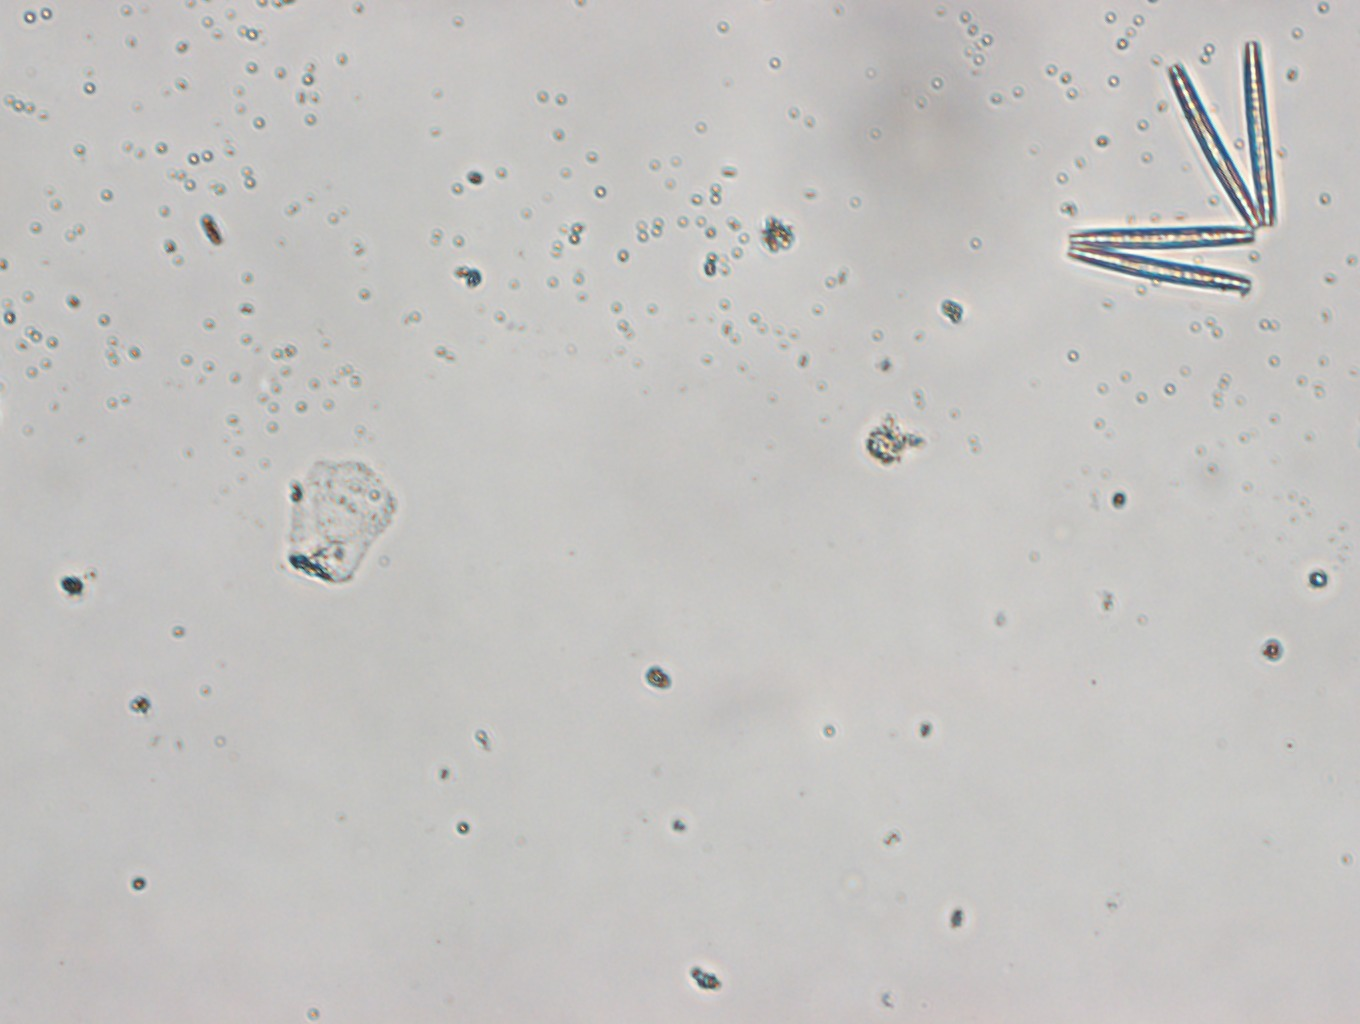thalassionema nitzschioides: (1065, 40, 1278, 294)
